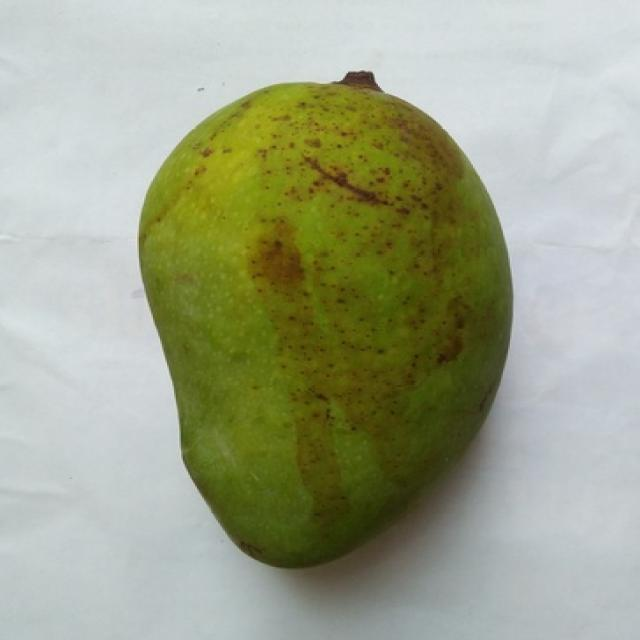Mango: (141, 81, 512, 566)
